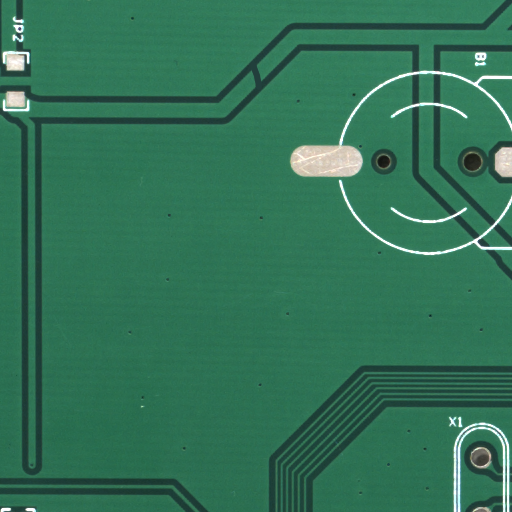Open_circuit: (256, 74, 272, 105)
